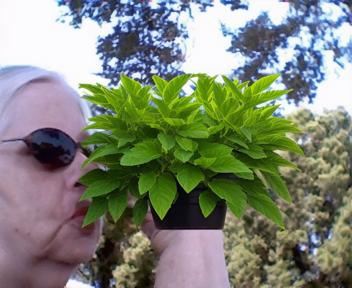person: (1, 66, 231, 288)
pottedplant: (78, 73, 304, 229)
